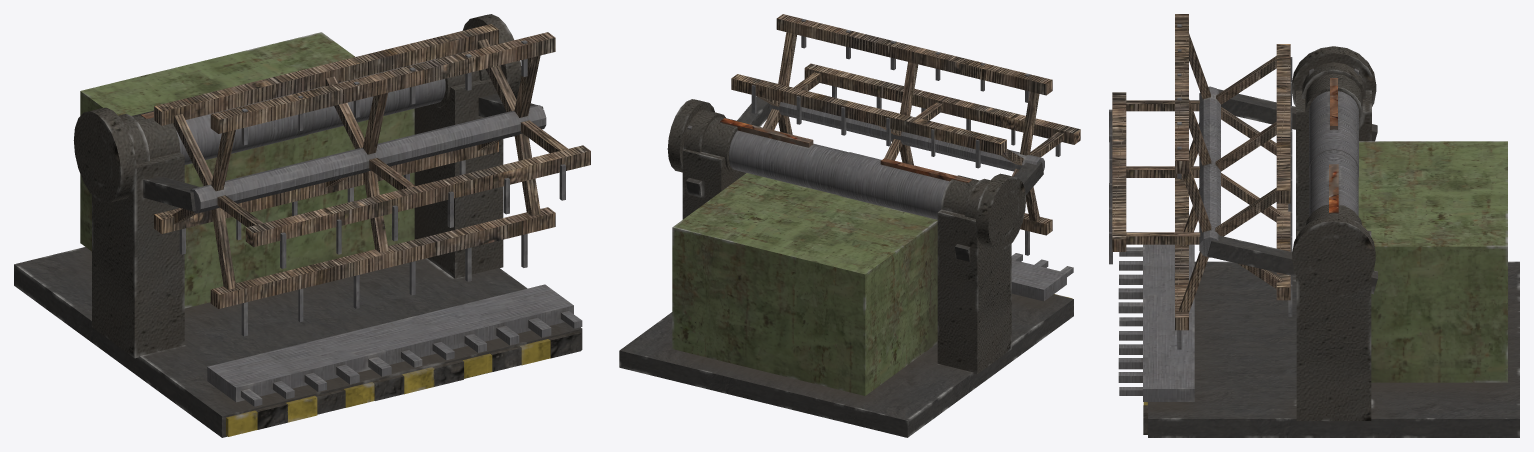
File: feMechHarvester_HD.fbx
3 views of the same model, side by side, from view 1: azimuth 30°, elevation 25°; view 2: azimuth 150°, elevation 25°; view 3: azimuth 270°, elevation 25° (orthographic). The views are drawn at different scales.
Parts seen in each view (by area): view 1: feMechHarvester_Base, FeSpin_x0.5_Reel, FeSpin_DriveShaft; view 2: feMechHarvester_Base, FeSpin_x0.5_Reel, FeSpin_DriveShaft; view 3: feMechHarvester_Base, FeSpin_x0.5_Reel, FeSpin_DriveShaft.
Part boxes in pixels (bbox=[...]): feMechHarvester_Base: bbox=[14, 32, 582, 437]; FeSpin_x0.5_Reel: bbox=[154, 24, 590, 336]; FeSpin_DriveShaft: bbox=[73, 14, 521, 203]; feMechHarvester_Base: bbox=[619, 96, 1073, 437]; FeSpin_x0.5_Reel: bbox=[731, 14, 1080, 255]; FeSpin_DriveShaft: bbox=[667, 99, 1025, 250]; feMechHarvester_Base: bbox=[1118, 73, 1519, 437]; FeSpin_x0.5_Reel: bbox=[1109, 14, 1292, 349]; FeSpin_DriveShaft: bbox=[1292, 46, 1376, 297].
Bounding box in the file's own units: 1 × 0.7299 × 0.9956.
Materials: 1 (1 with a texture image).
